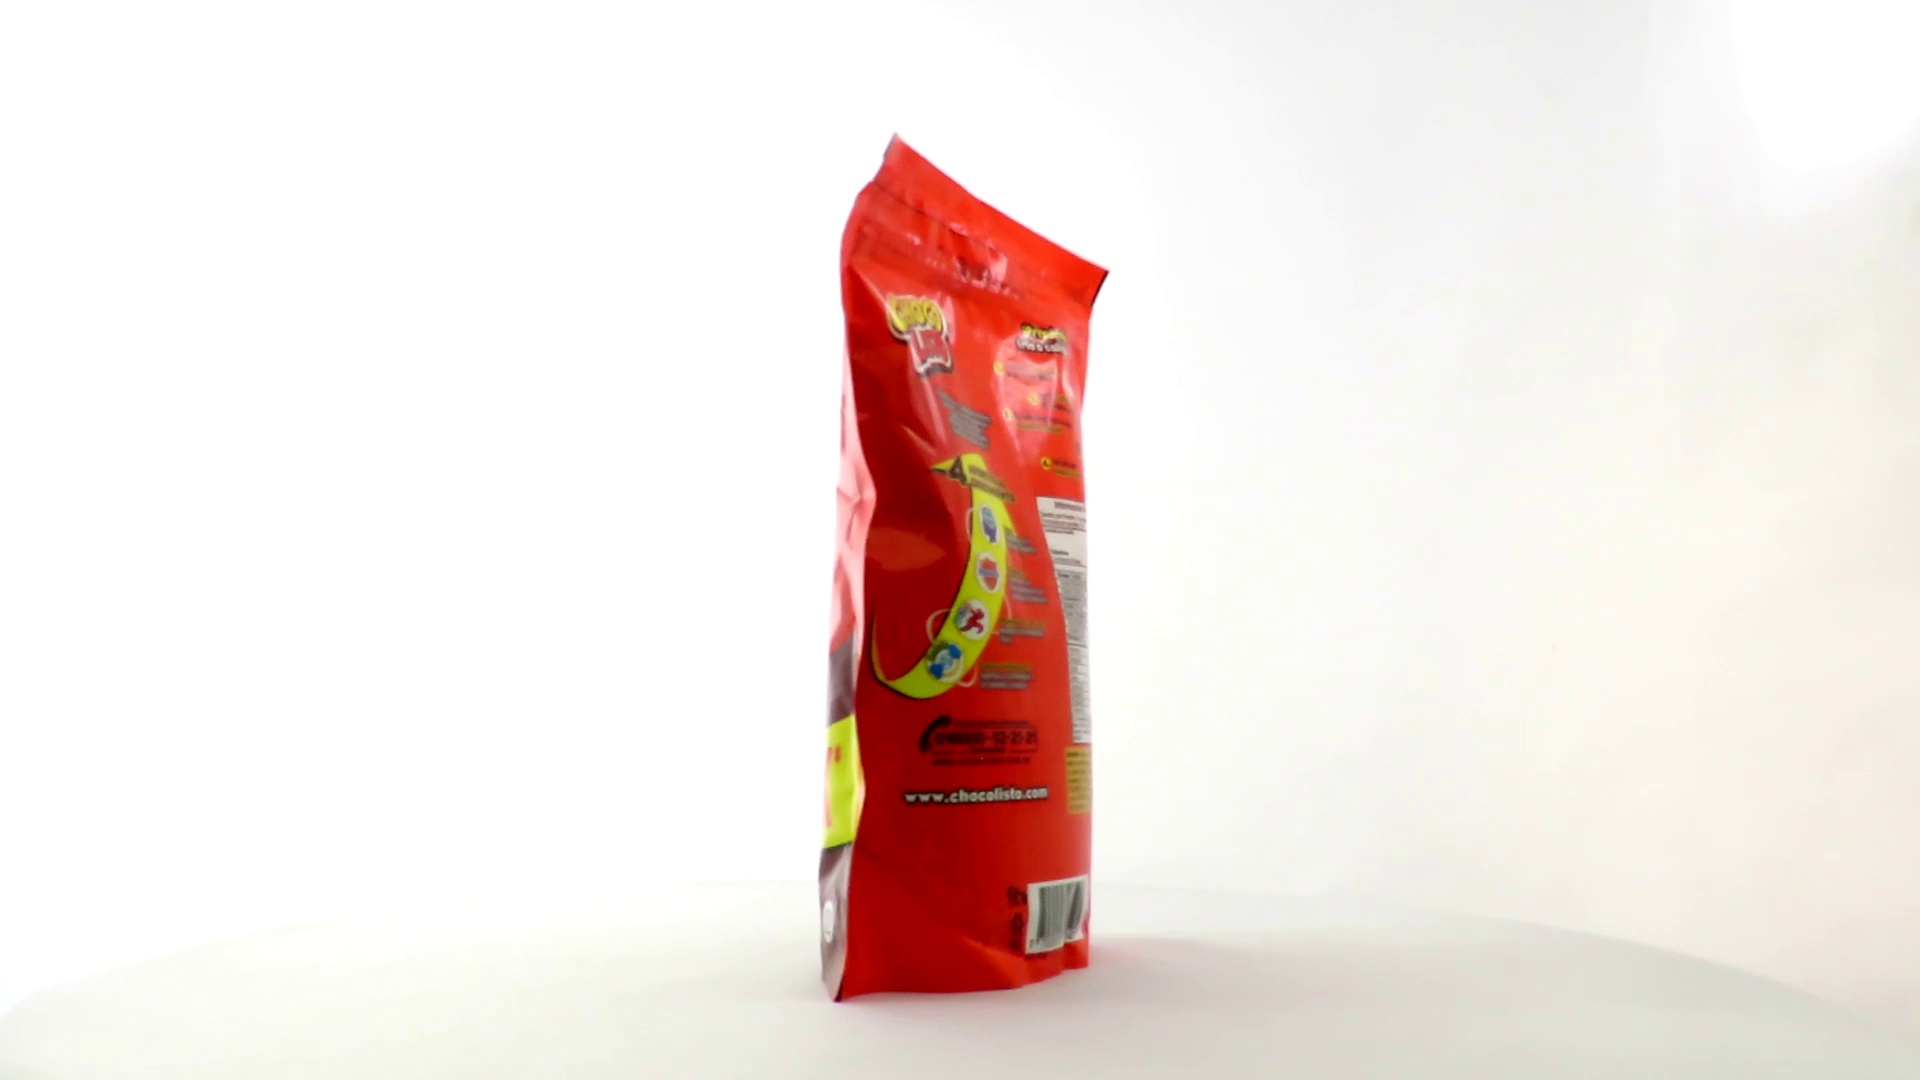COL0170103DYP36000: (814, 127, 1116, 1009)
